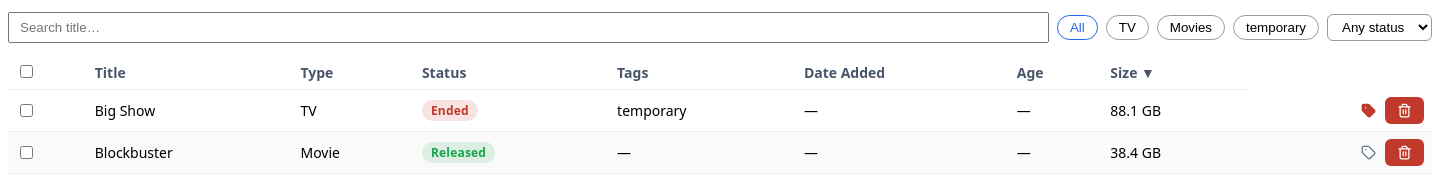
Test case: LibraryTable › clears the search box via the clear button
This screenshot has width=1440, height=191.
Type "Big" into the field with placeholder "Search title…".
click(528, 28); type("Big")  # box [8,12,1049,43]
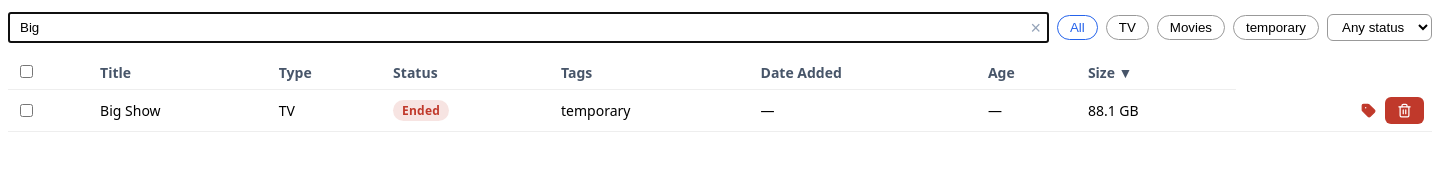
Click the button named "clear search".
click(1036, 28)  # box [1026,18,1045,36]
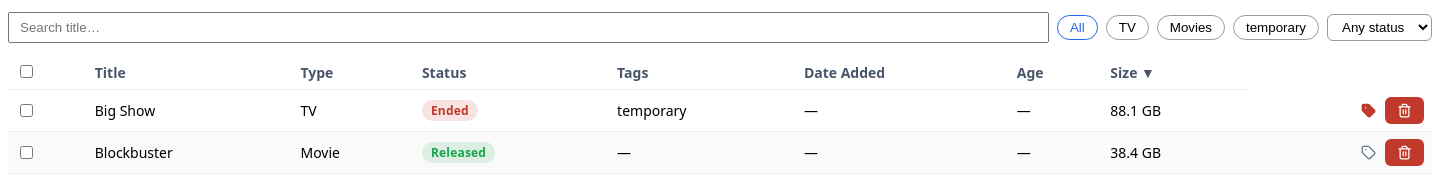
Result: the field with placeholder "Search title…" is empty at [8,12,1049,43]
